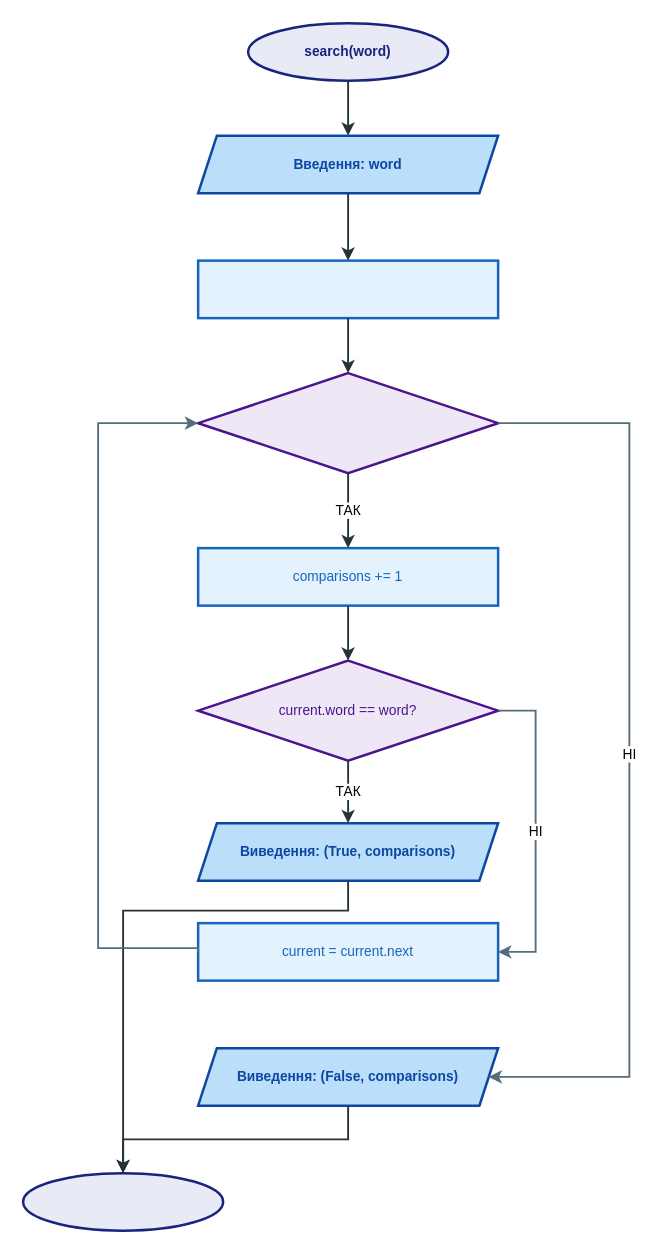
This 661x1253 diagram has some shape labels left out. The box of each missing label's shape, as (x1, y1, x2, y2) in pixels:
current is not None?: (196, 371, 499, 474)
index=_hash(word); comparisons=0; current=table[index]: (196, 259, 499, 319)
return: (21, 1171, 224, 1231)
